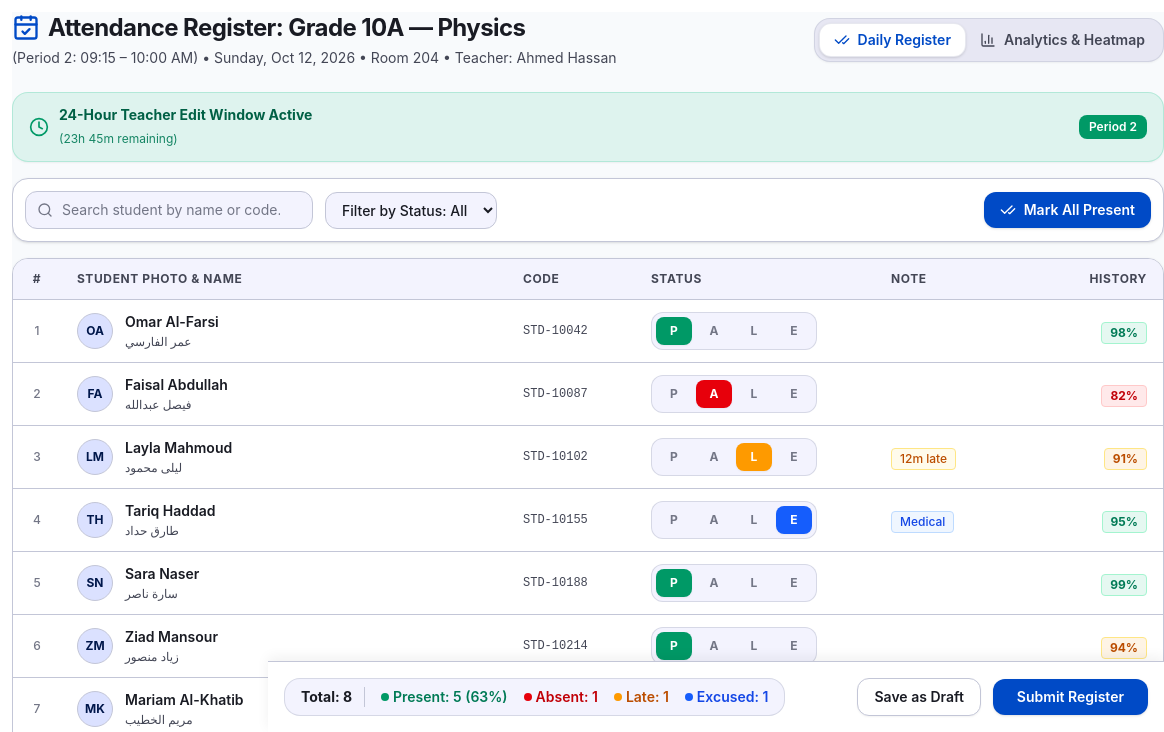
Scenario: AttendancePage (Attendance Register & Analytics Heatmap Stitch Clone) › submits the register and displays a success toast
Click the button "Submit Register" at x=1070, y=697, box [993,679,1148,715]
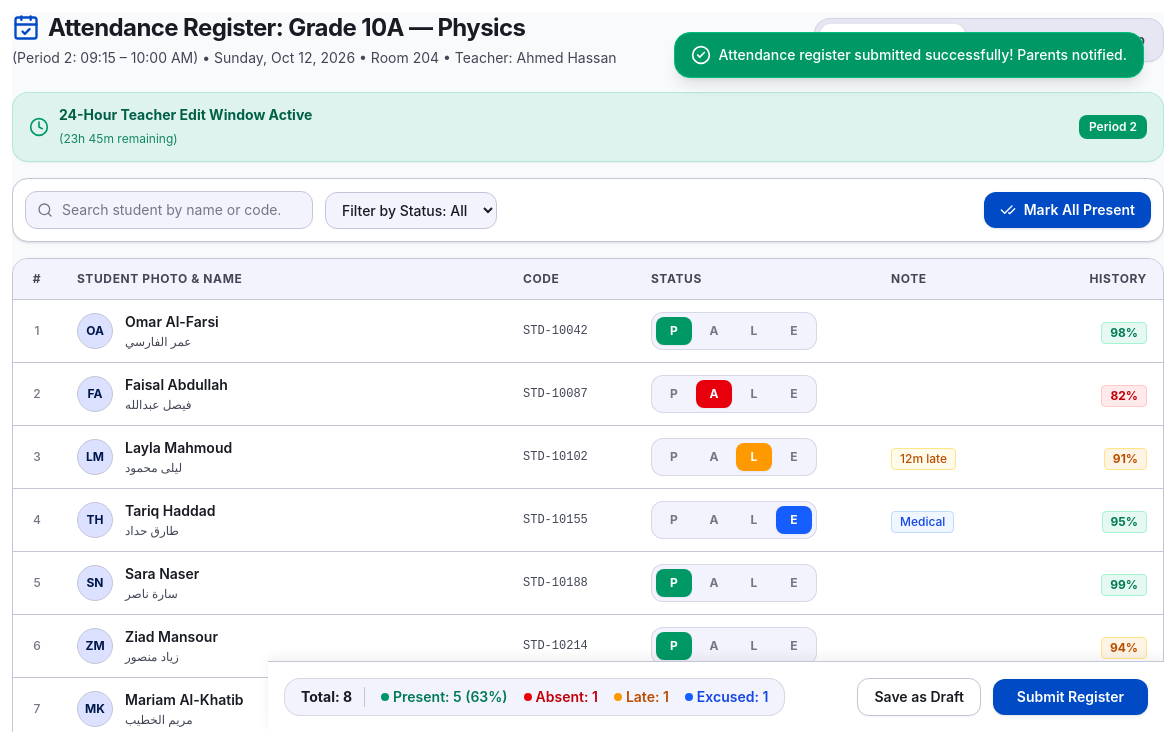
Check: the text "Attendance register submitted successfully! Parents notified." is shown, box [719,45,1127,65]
